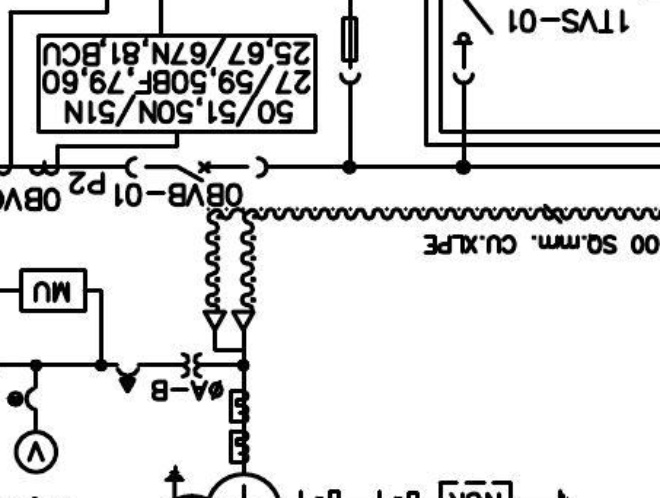22_breaker: (124, 155, 269, 183)
MU: (18, 266, 88, 314)
terminator_double: (201, 309, 257, 353)
v_m: (12, 429, 60, 476)
